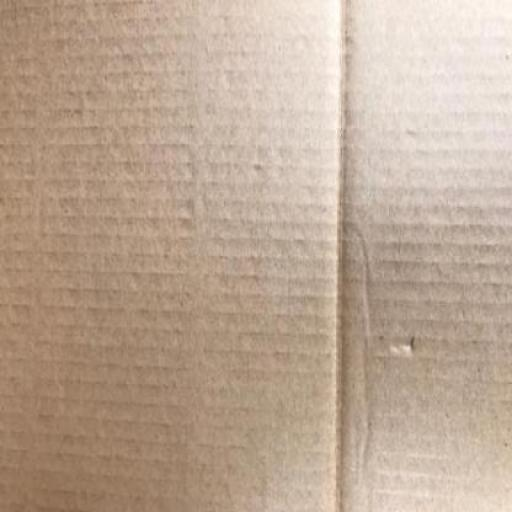cardboard: (0, 0, 511, 511), (336, 0, 512, 511)
